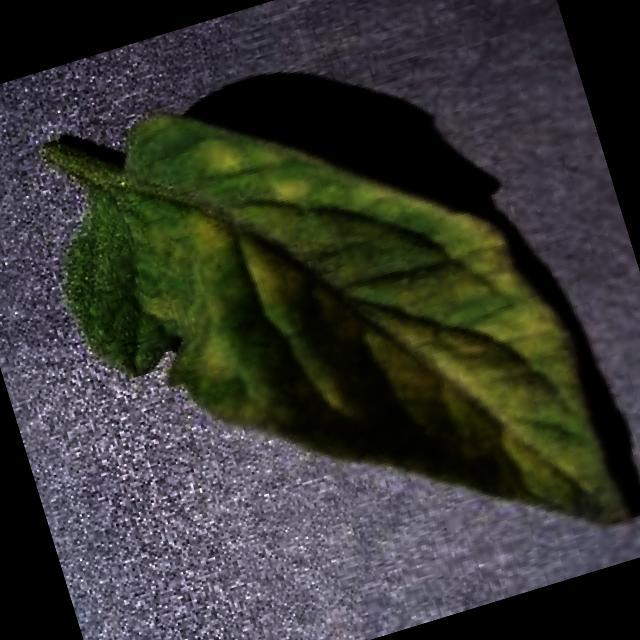Tomato healthy leaf: (26, 6, 636, 640)
